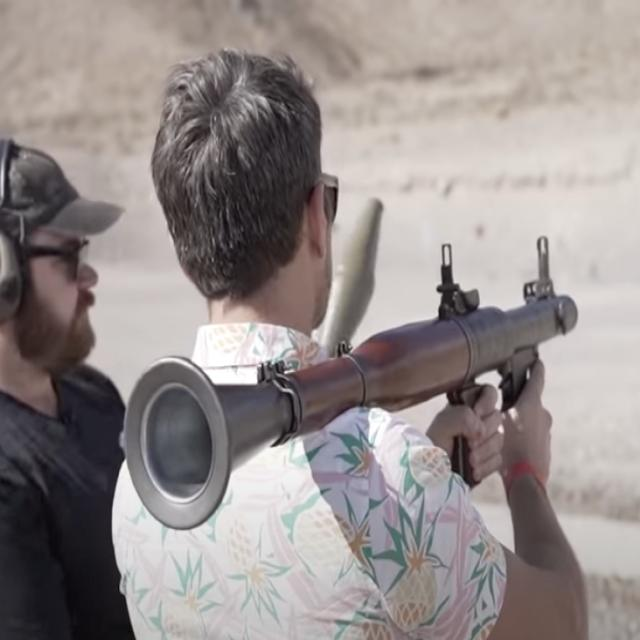bazooka: (114, 229, 593, 542)
